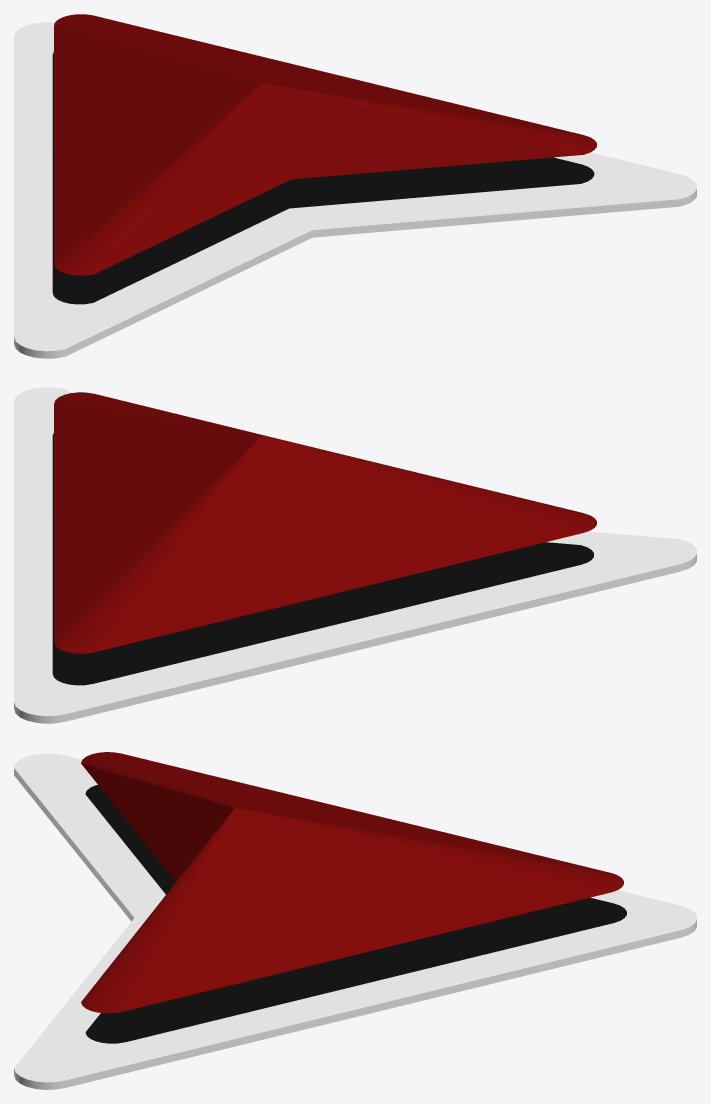
The model's file is 3D Nav CCP icon.obj.
3 views of the same model, one above another, from view 1: azimuth 30°, elevation 25°; view 2: azimuth 150°, elevation 25°; view 3: azimuth 270°, elevation 25° (orthographic).
Visible parts, largest first — view 1: Arrow_head; view 2: Arrow_head; view 3: Arrow_head.
Boxes of the visible parts, x1,y1,x2,y2 form: Arrow_head: (14, 14, 696, 358); Arrow_head: (14, 387, 696, 723); Arrow_head: (14, 752, 696, 1089).
Size of the model in its own units: 3.77 by 0.6281 by 3.31.
